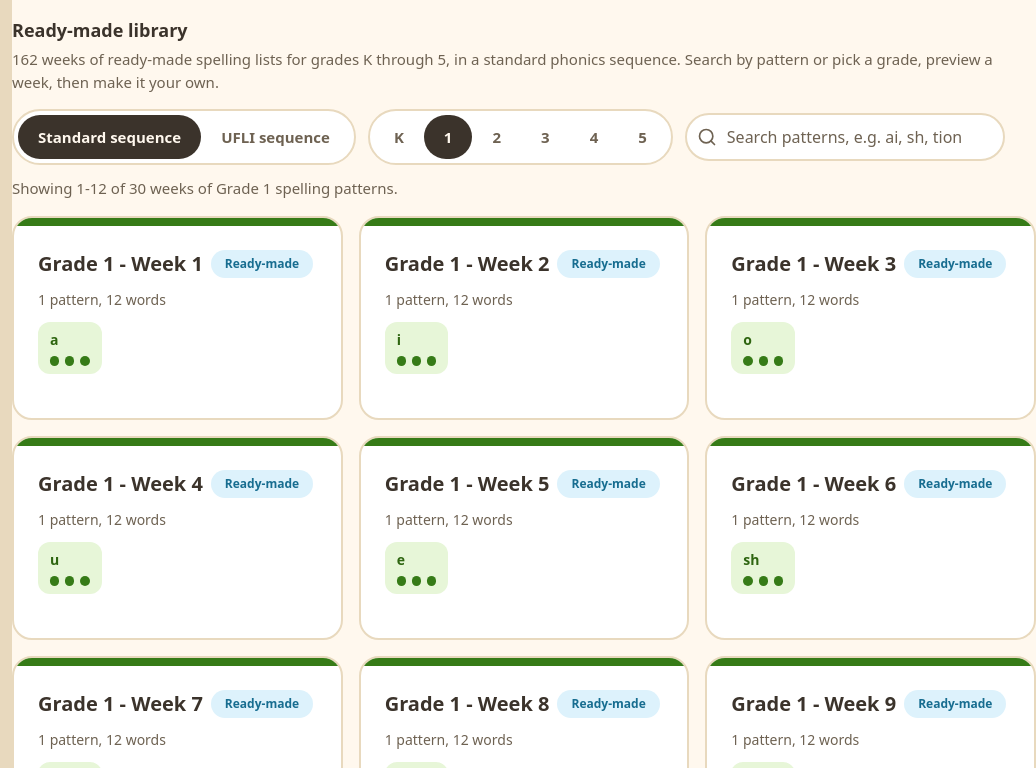
Test: PrebuiltLibrarySection › switches grades with the pill tabs
Click the tab "K". click: click(399, 137)
box: [374,115,424,159]
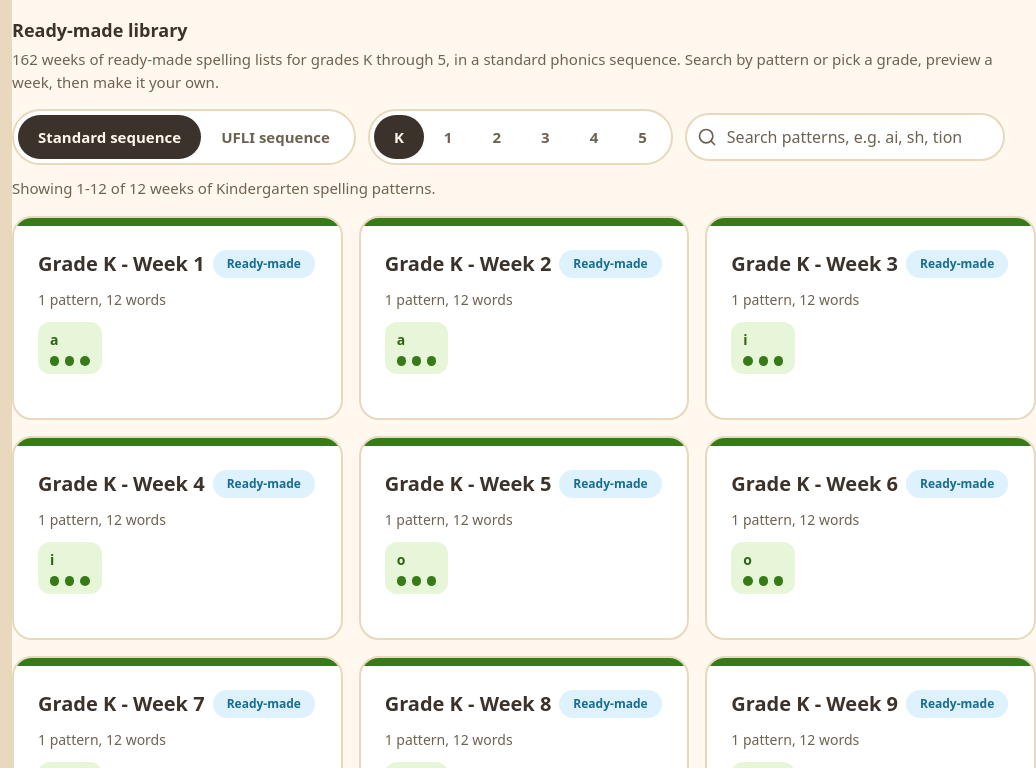
Expected: the text "Showing 1-12 of 12 weeks of Kindergarten spelling patterns." is shown, [12,178,436,198]
Expected: the link named "Preview: Grade K - Week 1" is shown, [14,218,341,418]
